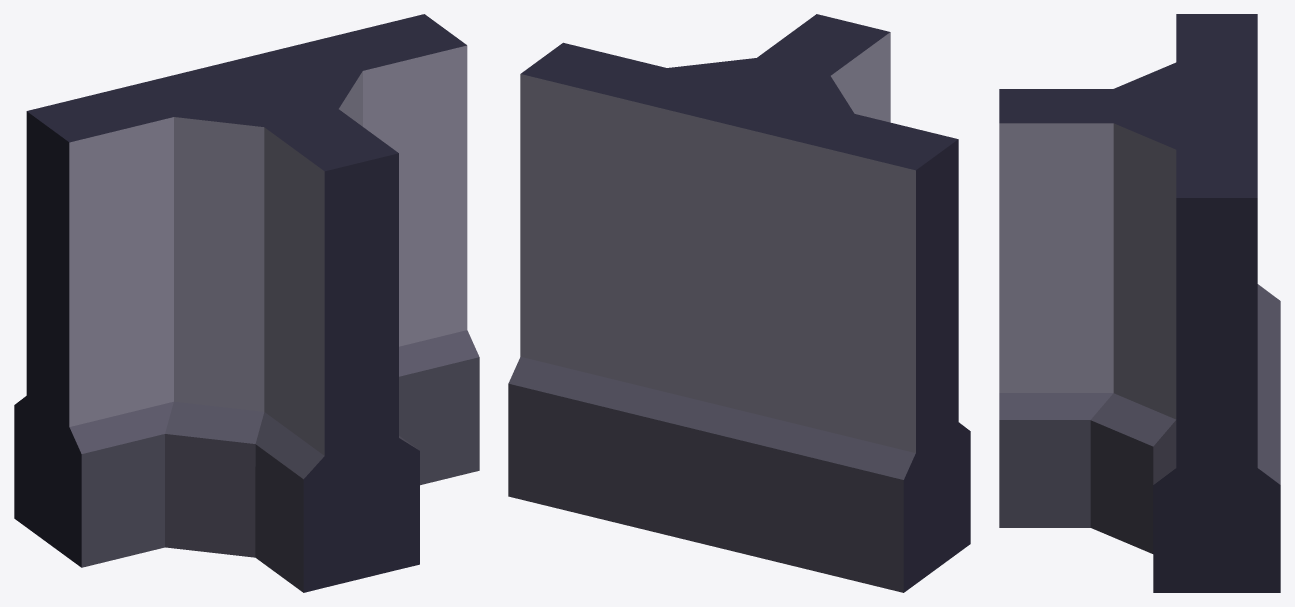
Rendered from WallTsplit.fbx.
The picture shows the model from 3 angles, left to right: view 1: azimuth 30°, elevation 25°; view 2: azimuth 150°, elevation 25°; view 3: azimuth 270°, elevation 25°; orthographic projection. The views are drawn at different scales.
Visible parts, largest first — view 1: WallTsplit; view 2: WallTsplit; view 3: WallTsplit.
Boxes of the visible parts, x1,y1,x2,y2 form: WallTsplit: (14,14,479,592); WallTsplit: (508,14,970,592); WallTsplit: (999,14,1280,592).
Bounding box in the file's own units: 200 × 200 × 129.
